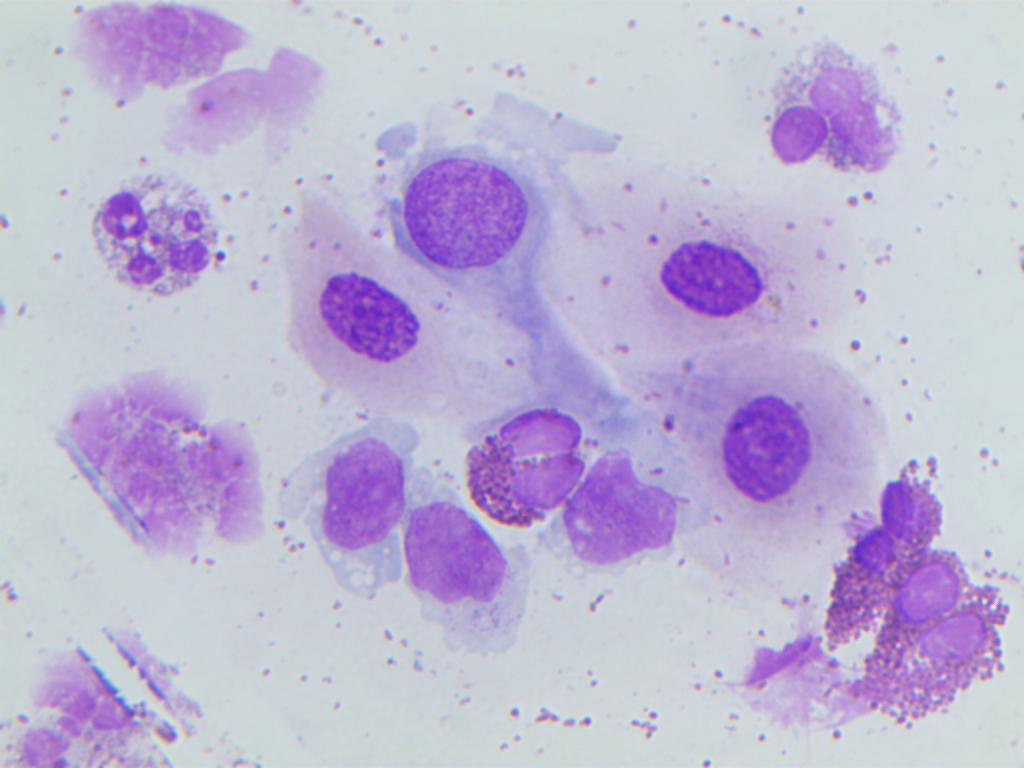artifact: (57, 363, 259, 587), (56, 0, 330, 150), (0, 629, 159, 768)
eosinophil: (825, 423, 959, 652), (877, 544, 1018, 722), (459, 410, 602, 520)
epithelial: (376, 123, 554, 280), (263, 427, 407, 598), (281, 252, 442, 383), (686, 387, 847, 518), (639, 218, 797, 334), (409, 490, 519, 651), (563, 438, 679, 580)
neutrophil: (83, 161, 218, 320), (749, 47, 905, 180)
